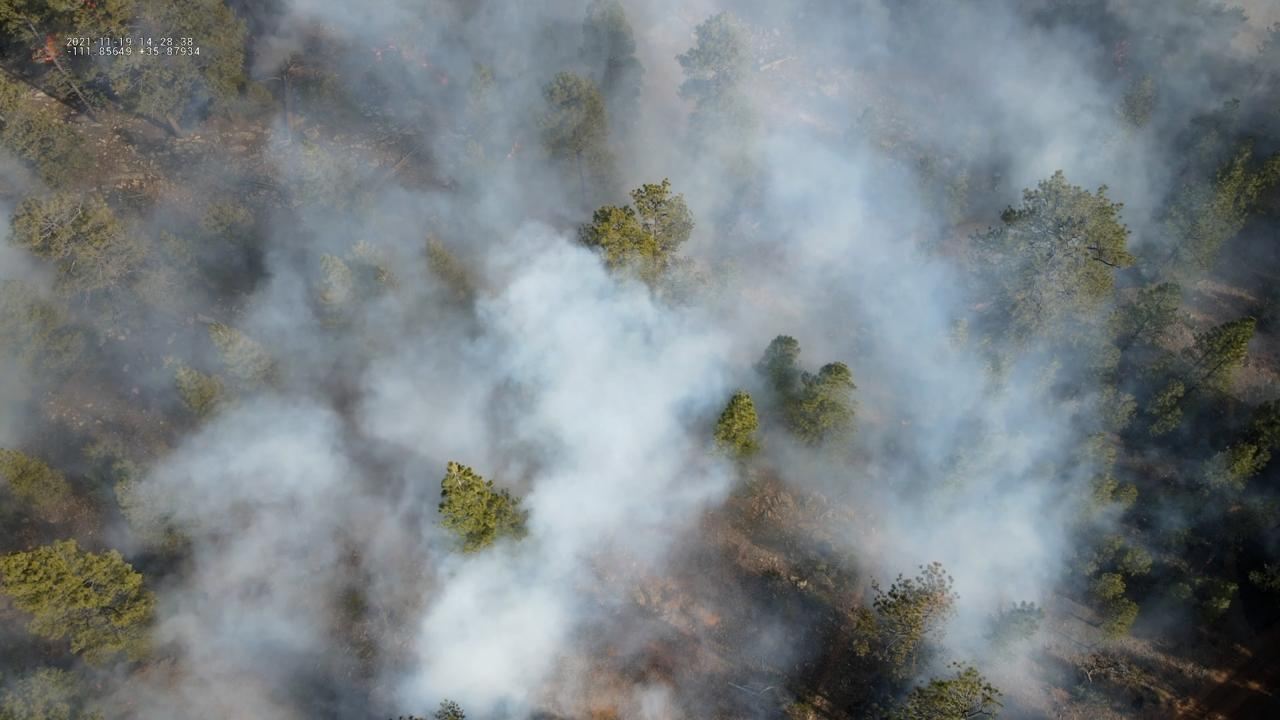fire: (30, 33, 62, 65), (505, 138, 521, 160), (372, 45, 384, 62), (84, 0, 99, 12), (437, 73, 450, 86)
smoke: (0, 0, 1280, 720)
